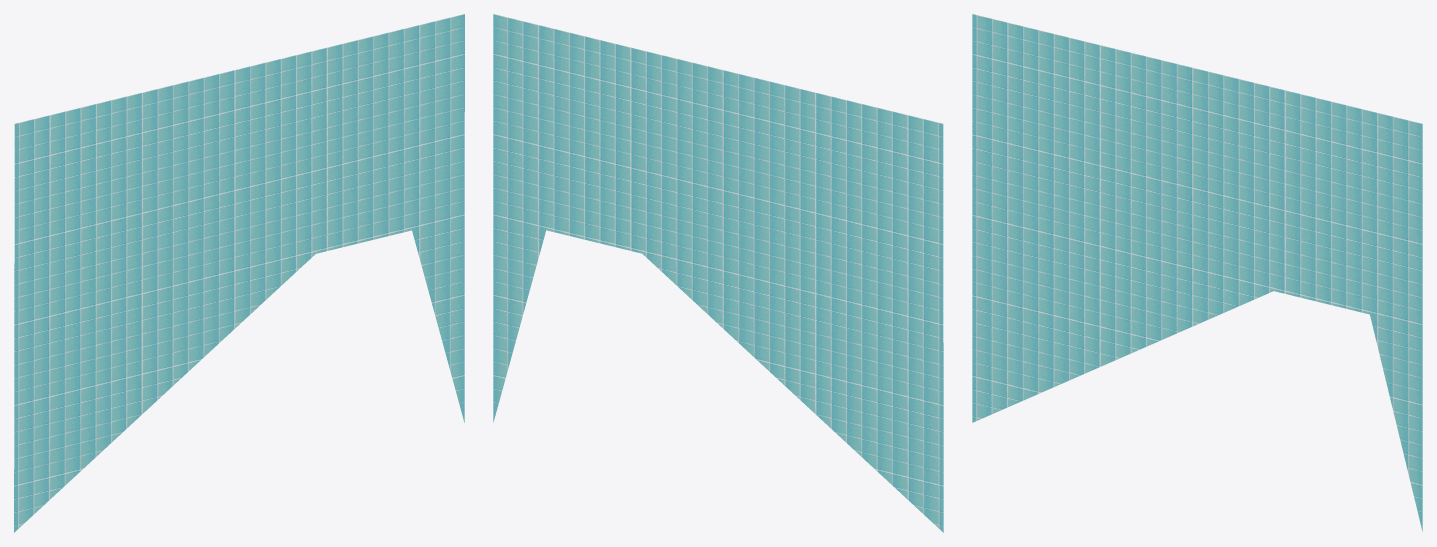
File: Bathwall01.glb
3 views of the same model, side by side, from view 1: azimuth 30°, elevation 25°; view 2: azimuth 150°, elevation 25°; view 3: azimuth 330°, elevation 25° (orthographic).
Parts seen in each view (by area): view 1: Bathwall01; view 2: Bathwall01; view 3: Bathwall01.
Part boxes in pixels (x1,y1,x2,y2): Bathwall01: [14, 14, 464, 532]; Bathwall01: [493, 14, 943, 532]; Bathwall01: [972, 14, 1422, 531].
Bounding box in the file's own units: 1200 × 1041 × 0.8418.
Materials: 1 (1 with a texture image).
